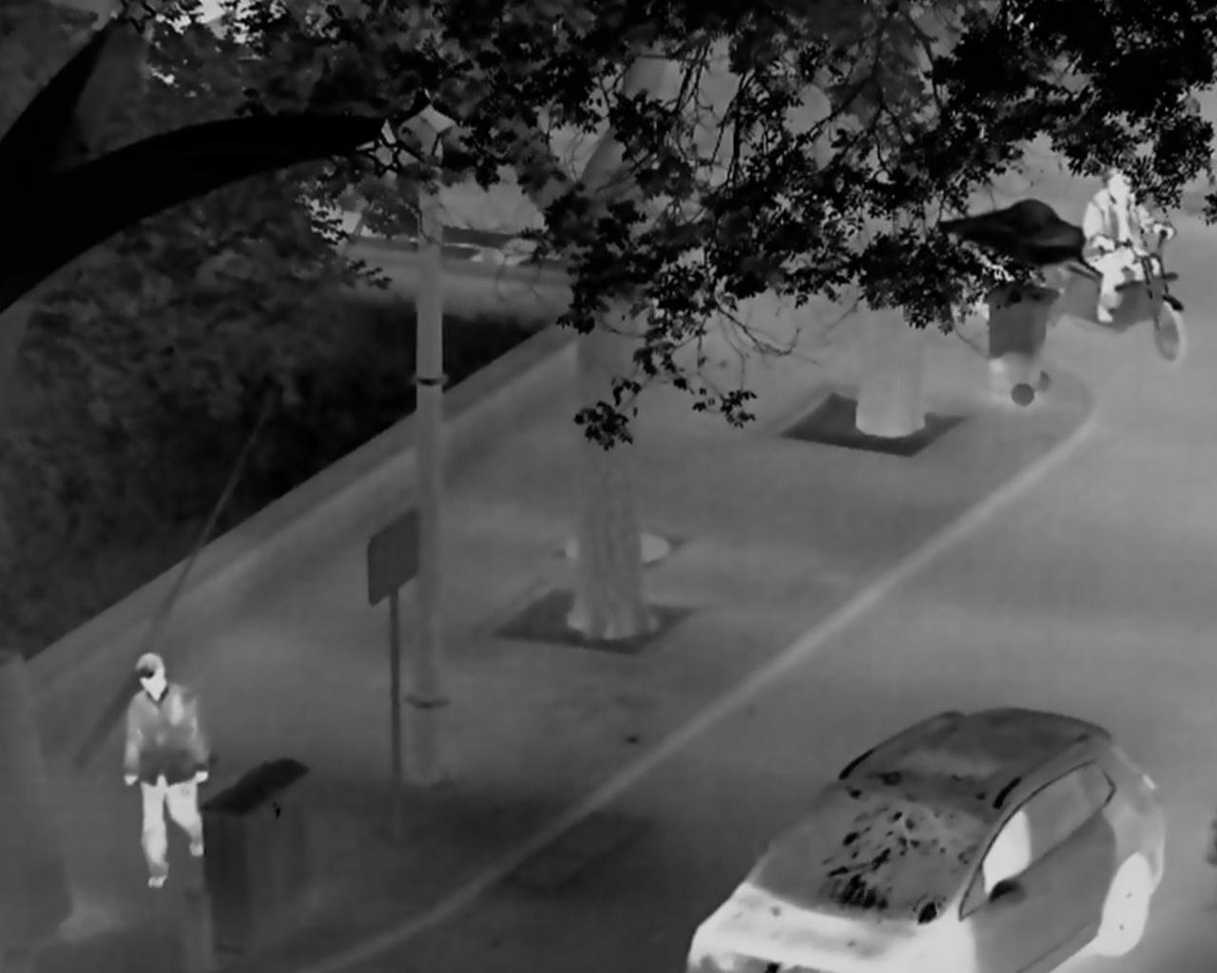person: (119, 650, 207, 888), (1079, 163, 1175, 325)
